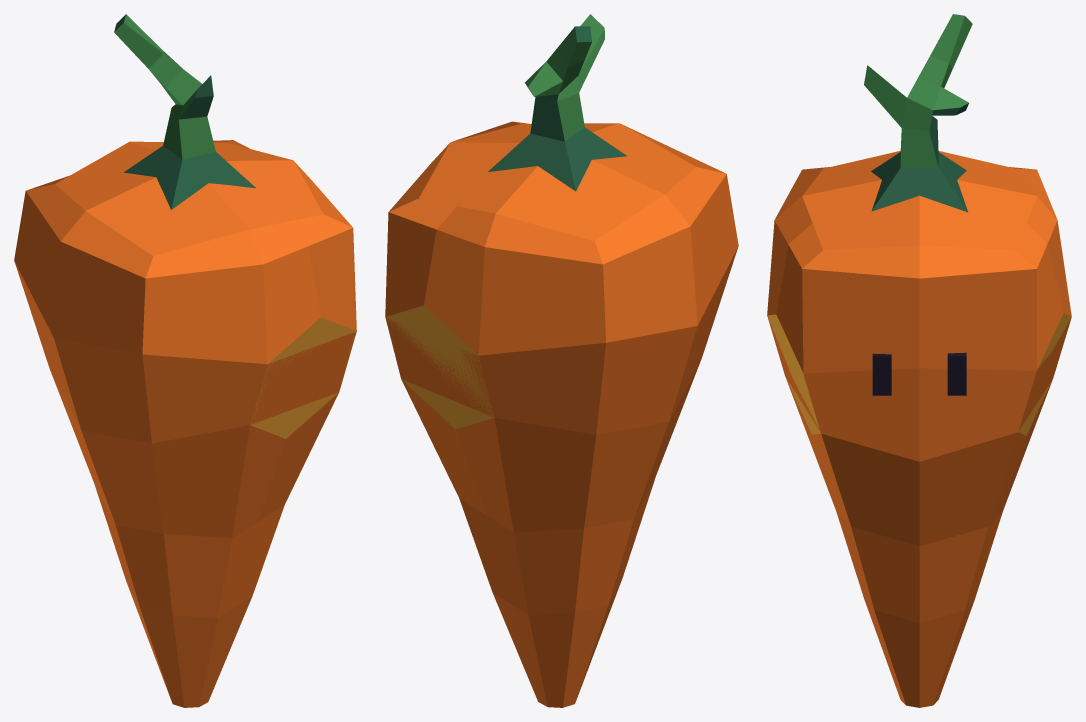
The model's file is BasicCarrot.fbx.
The picture shows the model from 3 angles, left to right: view 1: azimuth 30°, elevation 25°; view 2: azimuth 150°, elevation 25°; view 3: azimuth 270°, elevation 25°; orthographic projection. The views are drawn at different scales.
Visible parts, largest first — view 1: Cube; view 2: Cube; view 3: Cube.
Part boxes in pixels (x1=…): Cube: x1=14, y1=14, x2=356, y2=707; Cube: x1=385, y1=14, x2=738, y2=707; Cube: x1=767, y1=14, x2=1071, y2=707.
Size of the model in its own units: 303 by 770 by 316.
